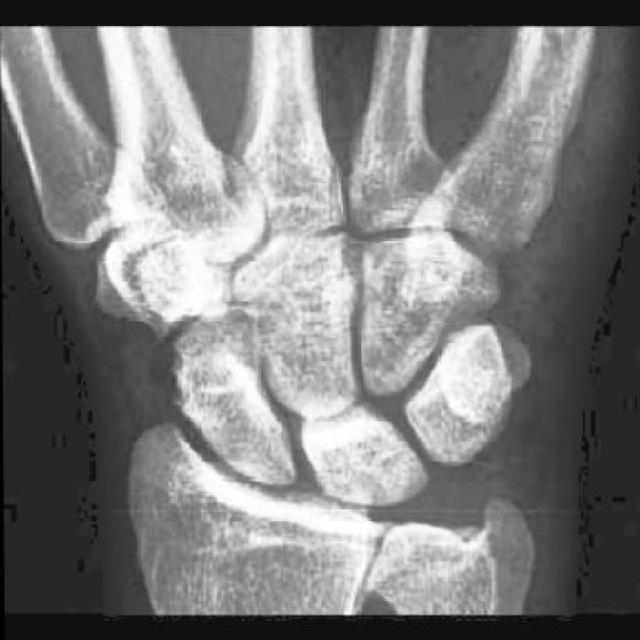Fracture: (400, 228, 468, 307)
